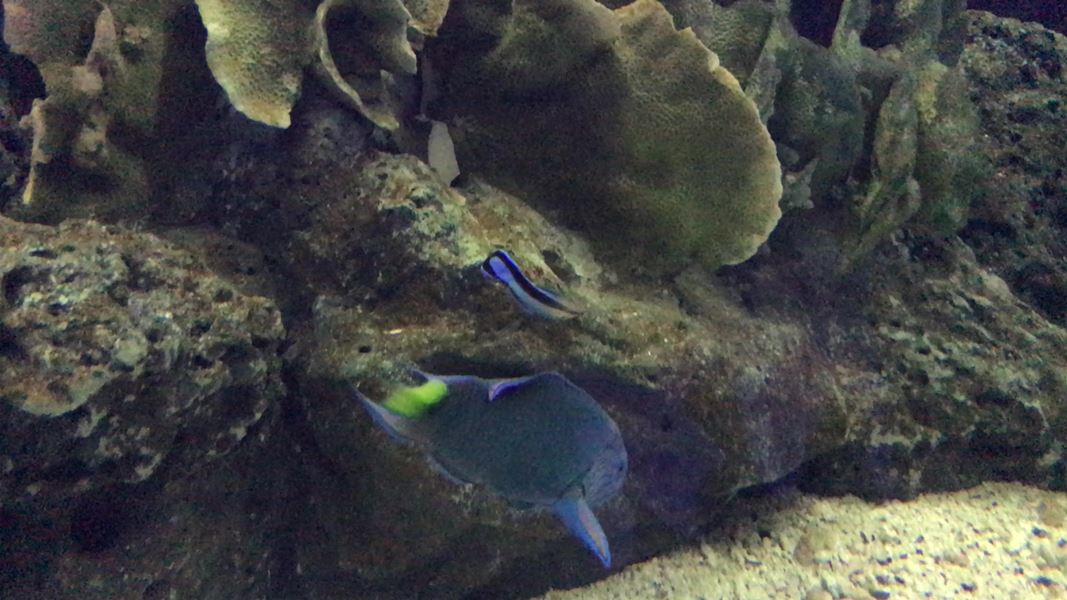Bluesteak cleaner wrasse: (476, 238, 593, 330)
